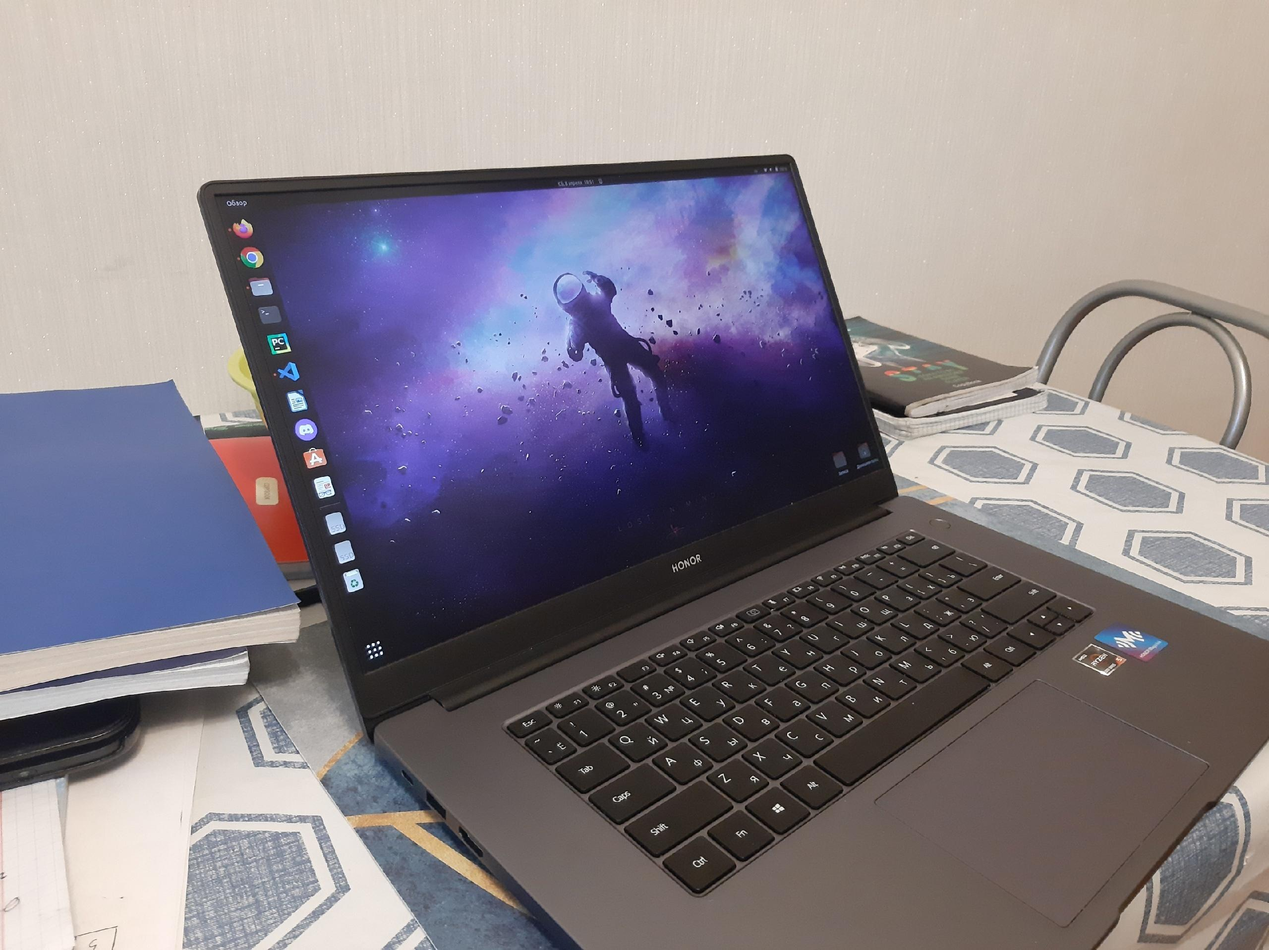monitor: (193, 150, 902, 726)
